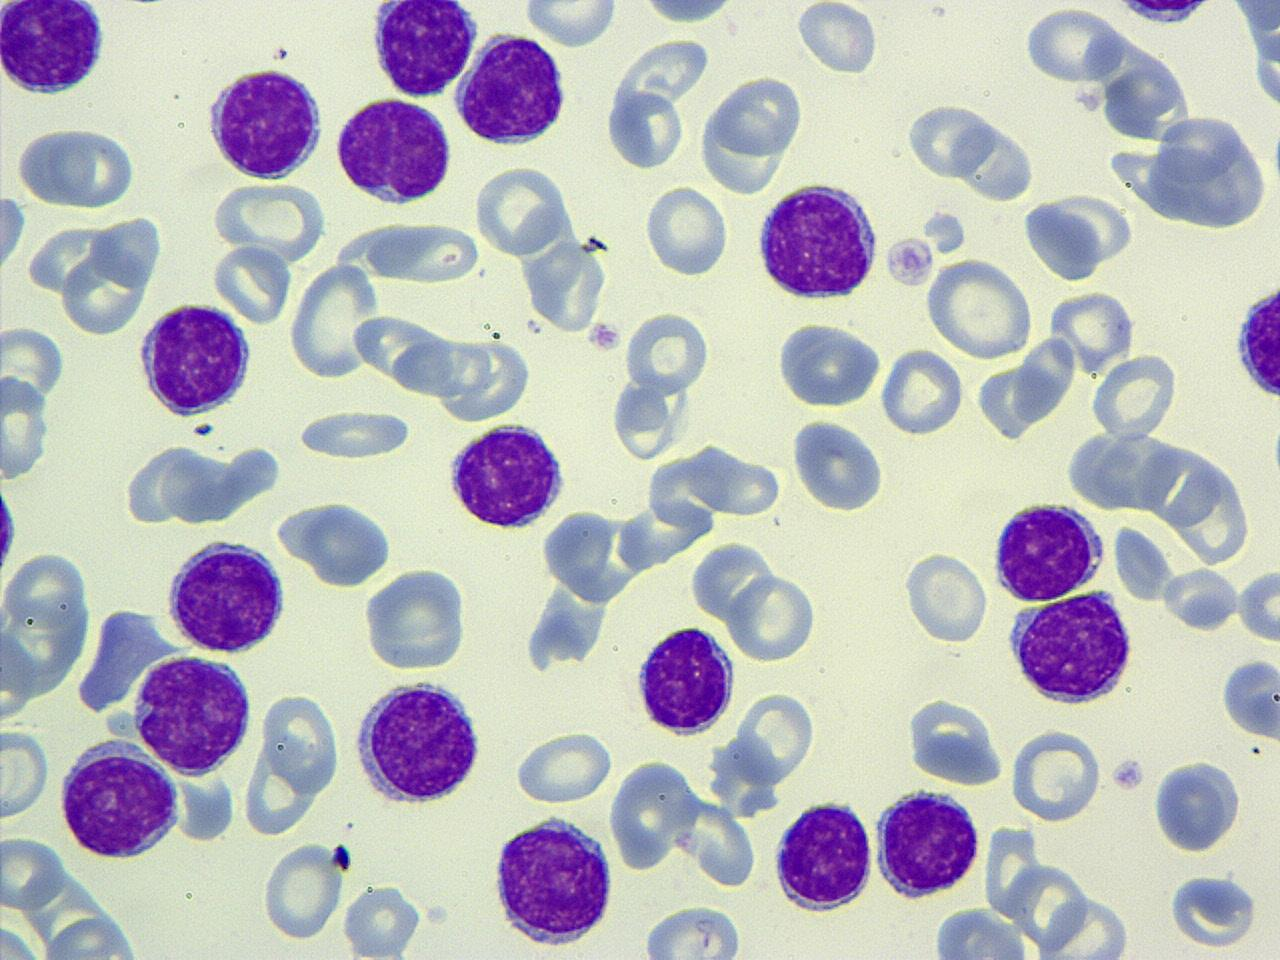Platelets: (1165, 870, 1263, 952), (1022, 198, 1106, 281), (340, 881, 428, 957), (884, 236, 937, 288), (918, 208, 970, 254), (0, 480, 18, 583), (1108, 754, 1146, 794), (1268, 422, 1280, 485), (189, 419, 214, 438)
RBC: (602, 33, 714, 172), (362, 564, 472, 673), (923, 255, 1036, 359), (286, 260, 382, 382), (11, 123, 140, 211), (240, 716, 327, 838), (281, 498, 398, 588), (774, 316, 882, 412), (1062, 426, 1180, 513), (606, 756, 696, 870), (209, 179, 330, 264), (788, 414, 888, 514), (472, 161, 574, 258), (904, 696, 1008, 790), (1006, 725, 1105, 823), (900, 546, 990, 646), (1171, 456, 1253, 565), (732, 686, 818, 786), (260, 838, 343, 942), (260, 688, 339, 797), (1087, 350, 1179, 443), (726, 570, 816, 664), (642, 183, 730, 278), (524, 236, 608, 336), (1020, 5, 1125, 84), (511, 729, 616, 807), (1046, 284, 1136, 374), (1165, 870, 1263, 952), (622, 308, 712, 396), (1020, 196, 1110, 283), (878, 347, 966, 437), (364, 220, 483, 285), (684, 793, 760, 892), (1012, 858, 1091, 952), (952, 117, 1039, 202), (903, 101, 994, 182), (210, 242, 294, 325), (296, 404, 414, 461), (1111, 515, 1181, 609), (1037, 888, 1131, 959), (341, 880, 423, 959), (793, 1, 881, 75), (639, 903, 749, 959), (609, 378, 683, 461), (1162, 564, 1240, 633), (0, 832, 66, 912), (38, 916, 150, 960), (0, 725, 51, 821), (523, 0, 618, 48), (1235, 566, 1279, 644), (635, 0, 737, 29), (0, 921, 44, 960)
WBC: (682, 0, 1280, 330), (1108, 109, 1278, 236), (519, 502, 645, 671), (12, 208, 172, 336), (348, 674, 488, 808), (490, 810, 620, 952), (0, 544, 98, 716), (130, 649, 258, 778), (1004, 588, 1138, 710), (55, 738, 182, 864), (754, 178, 884, 302), (161, 534, 292, 656), (205, 59, 328, 183), (607, 31, 712, 173), (135, 298, 256, 419), (452, 29, 572, 150), (445, 416, 570, 532), (333, 92, 458, 208), (698, 70, 806, 194), (12, 116, 147, 214), (872, 784, 984, 899), (770, 796, 878, 916), (988, 499, 1107, 605), (362, 563, 474, 674), (633, 622, 738, 740), (275, 497, 397, 590), (0, 0, 111, 100), (368, 0, 479, 99), (1, 321, 66, 489), (775, 318, 885, 412), (790, 413, 890, 513), (1149, 756, 1245, 856), (953, 116, 1038, 205), (1224, 0, 1280, 129), (638, 903, 748, 960), (1233, 272, 1280, 405), (928, 904, 1042, 958), (1219, 654, 1279, 745)
